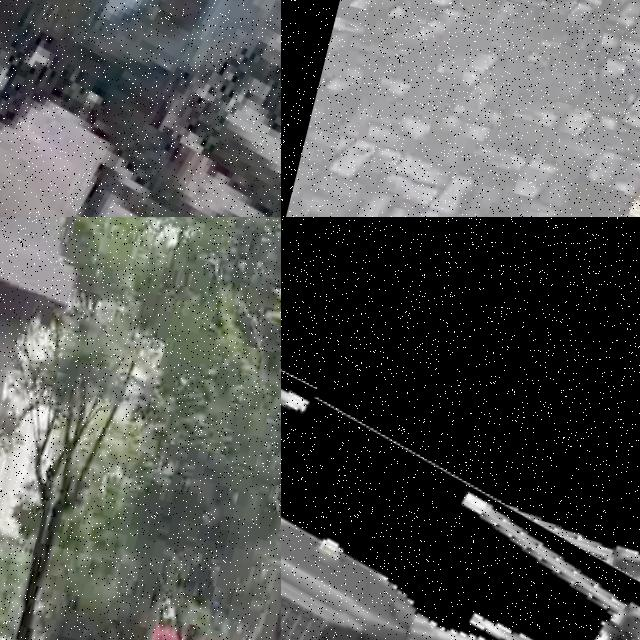drone: (281, 341, 640, 640), (0, 0, 281, 217)
